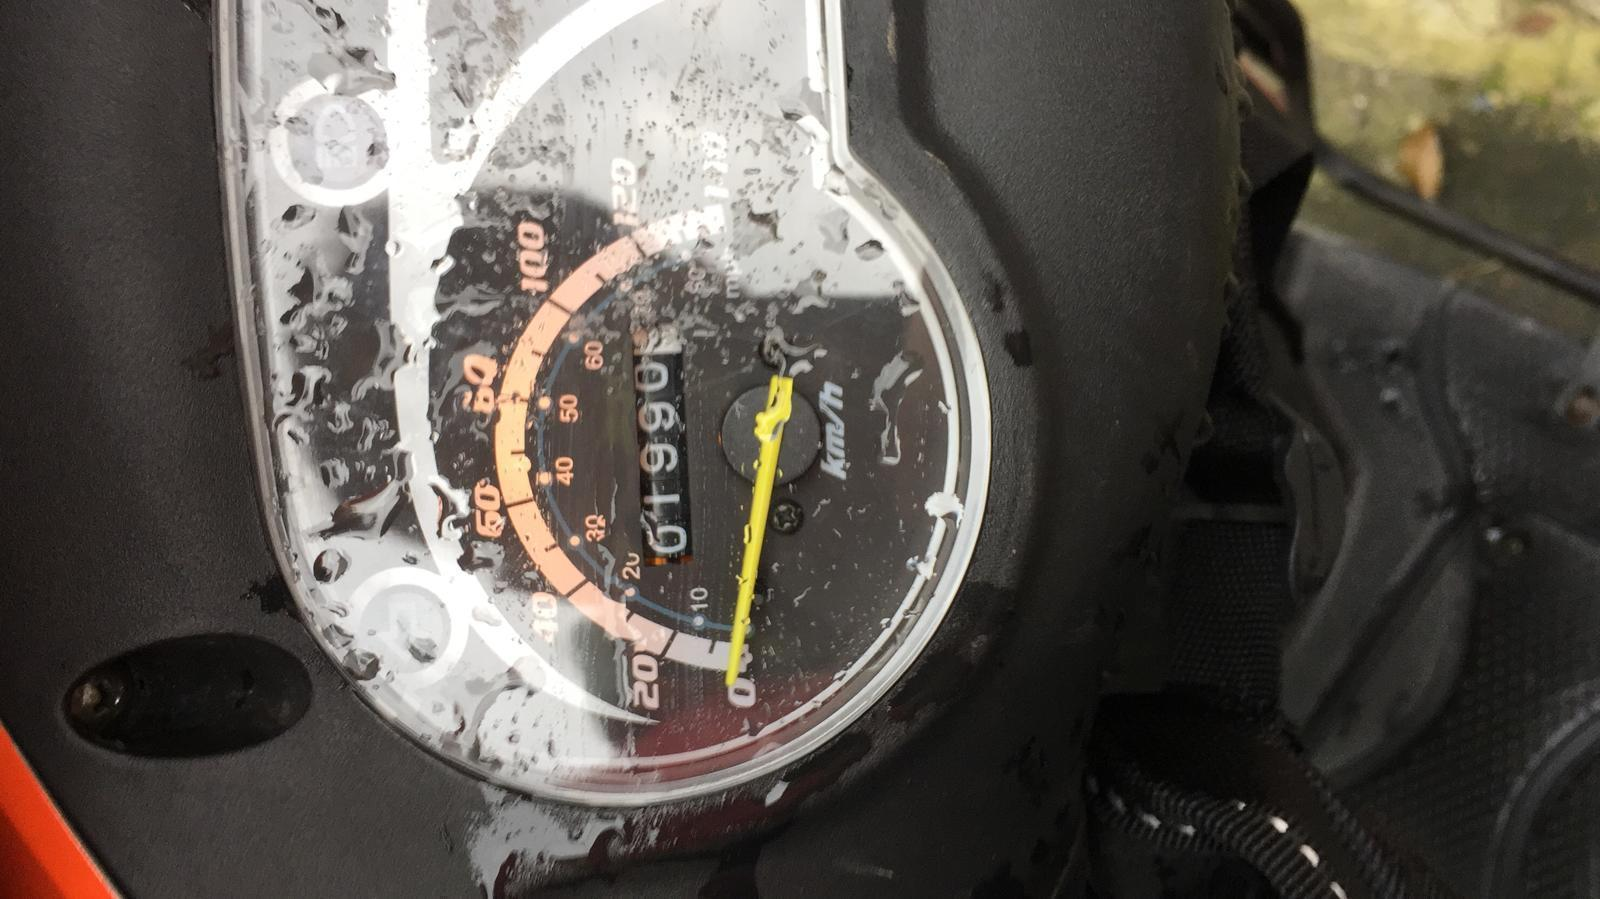0: (643, 521, 691, 554), (630, 359, 674, 393), (620, 551, 638, 565)
8: (634, 486, 689, 510)
9: (633, 441, 684, 478), (633, 399, 682, 433), (626, 323, 671, 348)
odometer: (625, 323, 702, 571)
